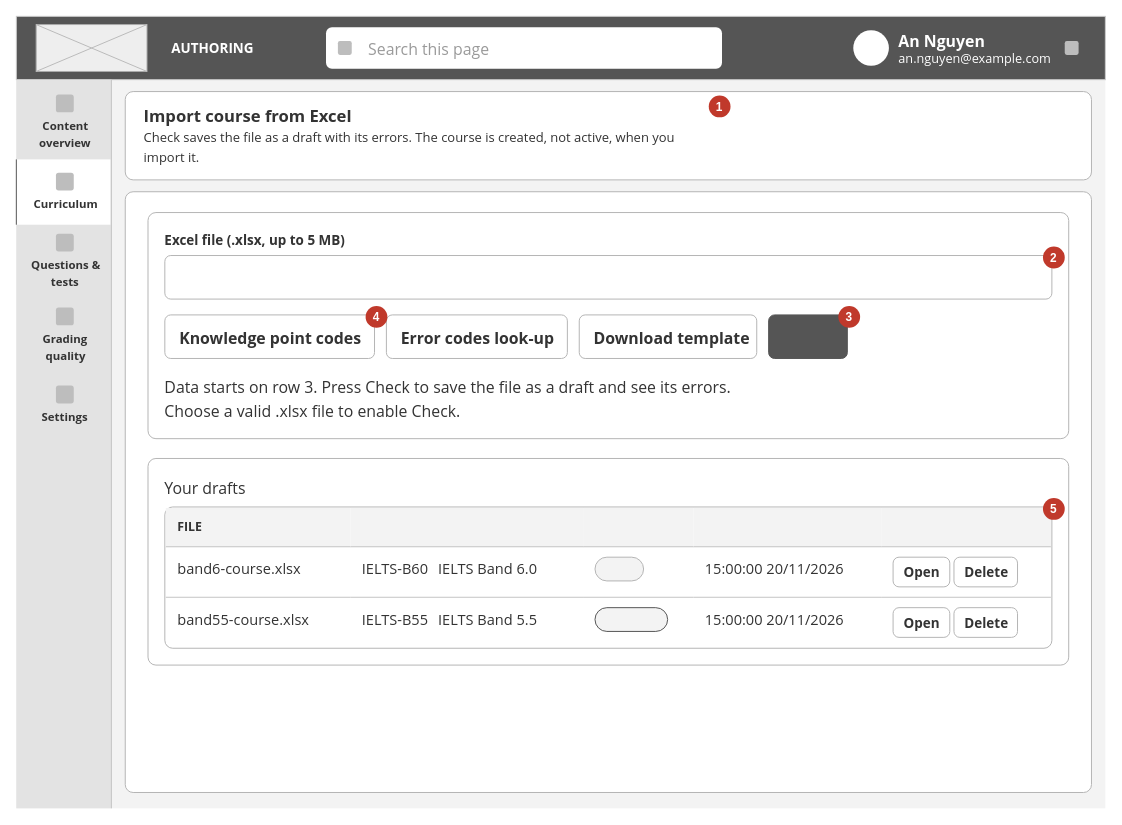
Some shapes in this 1122 by 825 pixel diagram are drawn without their labels. Here are the shapes that lost their labels. From the top down, the box of each, then its label:
(853, 30, 888, 65): AN
(768, 314, 847, 358): Check
(350, 507, 583, 546): COURSE
(583, 507, 693, 546): STATUS
(693, 507, 881, 546): UPDATED
(594, 556, 644, 581): Draft
(594, 607, 668, 631): Imported
